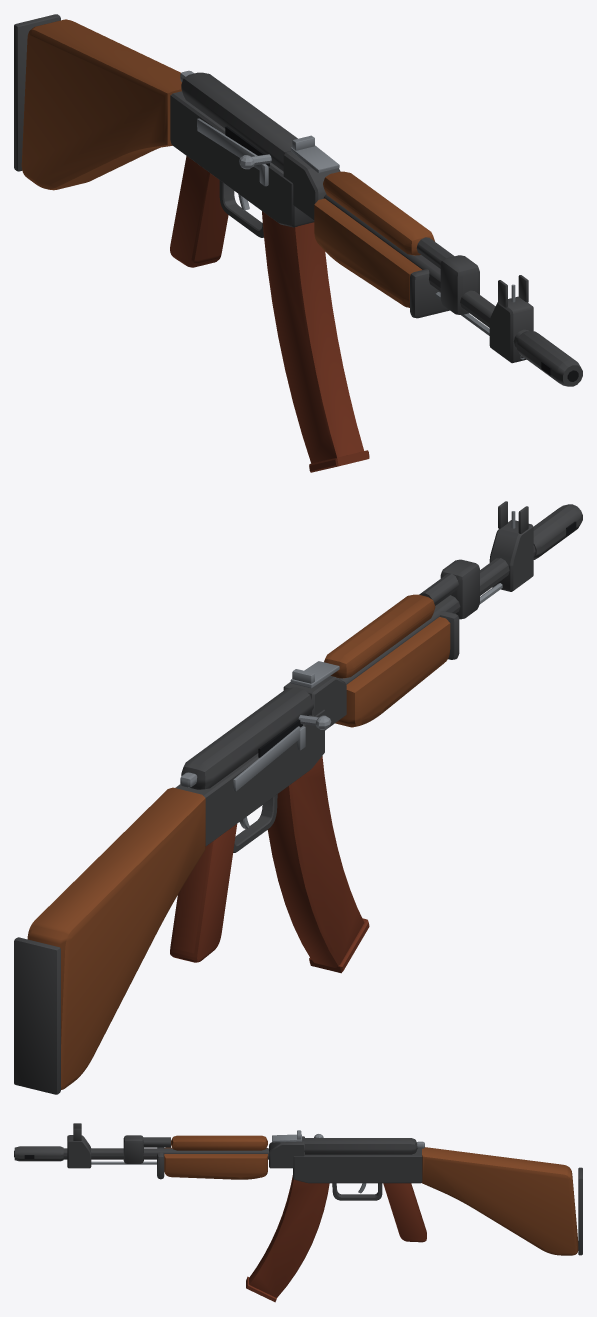
File: assault_rifle.glb
3 views of the same model, one above another, from view 1: azimuth 30°, elevation 25°; view 2: azimuth 150°, elevation 25°; view 3: azimuth 270°, elevation 25° (orthographic). The views are drawn at different scales.
Visible parts, largest first — view 1: assault_rifle_body, magazine; view 2: assault_rifle_body, magazine; view 3: assault_rifle_body, magazine.
Boxes of the visible parts, x1,y1,x2,y2 form: assault_rifle_body: [14, 14, 582, 386]; magazine: [262, 211, 369, 472]; assault_rifle_body: [14, 501, 582, 1094]; magazine: [267, 756, 369, 973]; assault_rifle_body: [14, 1123, 582, 1255]; magazine: [246, 1175, 329, 1302].
Bounding box in the file's own units: 0.0698 × 0.3175 × 0.95.
